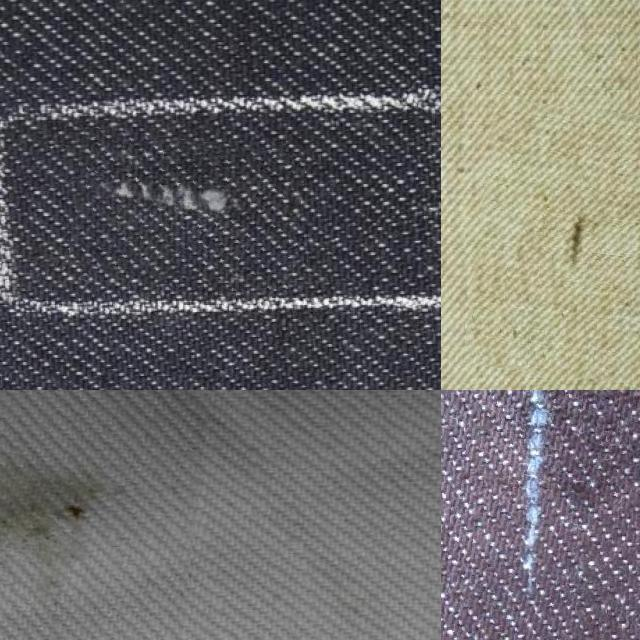Hole: (0, 390, 203, 640)
Thread_other: (441, 390, 632, 640), (470, 102, 640, 380), (72, 132, 304, 284)
